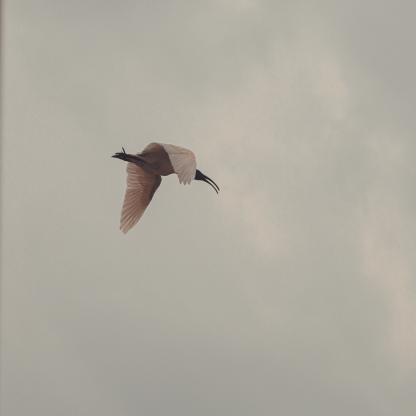bird: (112, 142, 220, 236)
